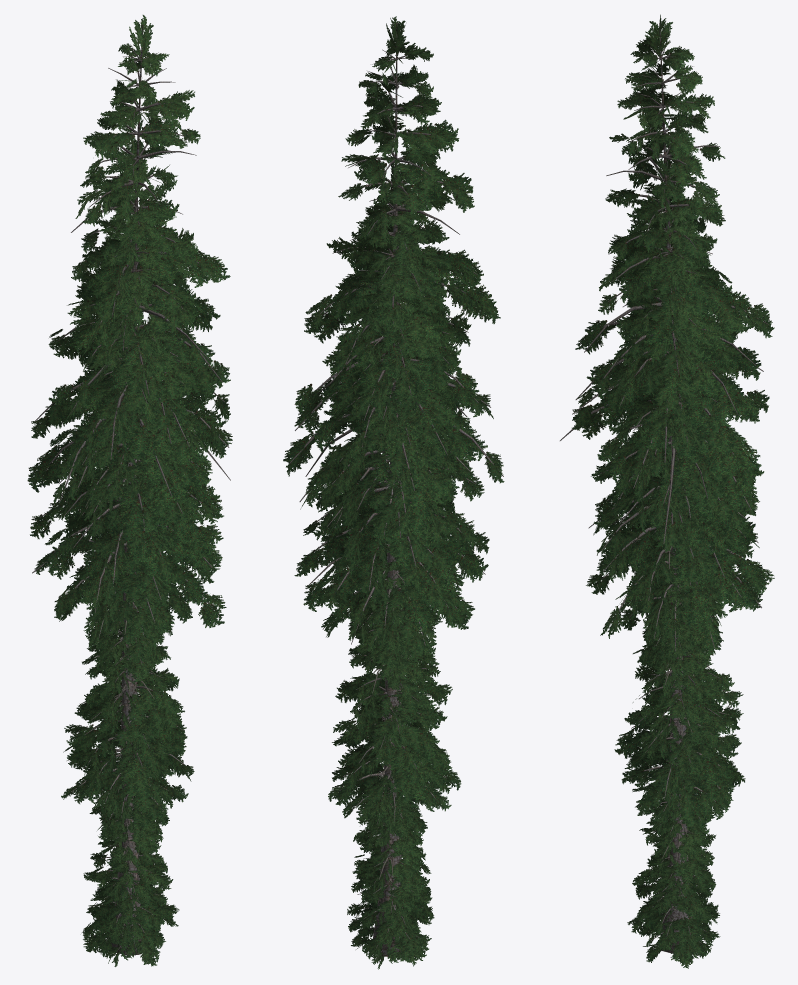
The model's file is spruce.glb.
3 renders of one model, left to right at view 1: azimuth 30°, elevation 25°; view 2: azimuth 150°, elevation 25°; view 3: azimuth 270°, elevation 25°, orthographic.
Visible parts, largest first — view 1: spruce_v3_LOD0, spruce_v2_LOD0, spruce_v1_LOD0, spruce_v0_LOD0; view 2: spruce_v3_LOD0, spruce_v2_LOD0, spruce_v1_LOD0, spruce_v0_LOD0; view 3: spruce_v3_LOD0, spruce_v2_LOD0, spruce_v1_LOD0, spruce_v0_LOD0.
Boxes of the visible parts, x1,y1,x2,y2 form: spruce_v3_LOD0: (27,15,232,955); spruce_v2_LOD0: (30,152,226,821); spruce_v1_LOD0: (61,570,194,893); spruce_v0_LOD0: (82,797,179,966); spruce_v3_LOD0: (283,16,504,956); spruce_v2_LOD0: (294,162,489,779); spruce_v1_LOD0: (328,544,461,879); spruce_v0_LOD0: (347,793,434,969); spruce_v3_LOD0: (560,14,774,953); spruce_v2_LOD0: (586,153,774,738); spruce_v1_LOD0: (614,511,745,876); spruce_v0_LOD0: (627,787,720,968).
Size of what is drawn, in the model's own units: 7.53 by 34.24 by 7.91.
3 materials, 2 textured.
